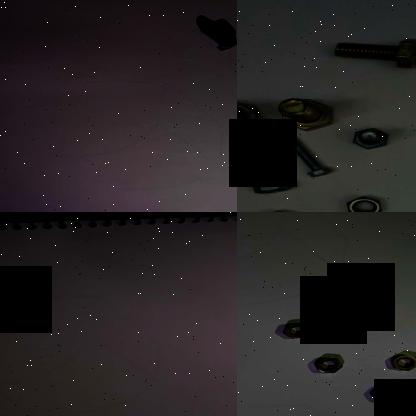Bolts: (333, 33, 416, 73), (270, 94, 340, 134), (238, 150, 290, 198), (282, 134, 336, 180), (346, 125, 392, 157), (196, 24, 237, 50), (237, 96, 261, 136)
NUTS: (333, 193, 388, 212), (309, 354, 344, 375), (364, 384, 400, 404), (360, 310, 392, 330), (280, 321, 312, 341), (385, 353, 416, 371)
